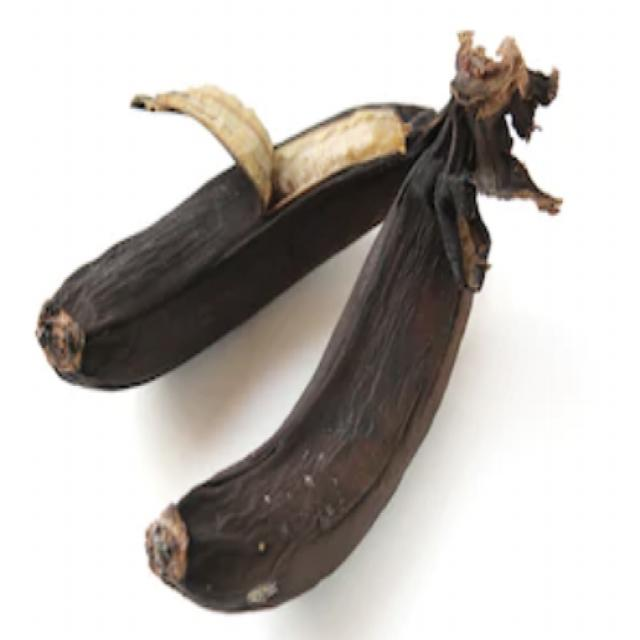rotten-banana: (142, 180, 568, 612), (23, 51, 450, 378)
